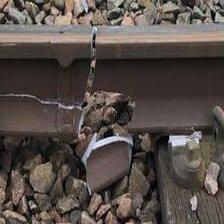railway-gap: (34, 21, 167, 150)
